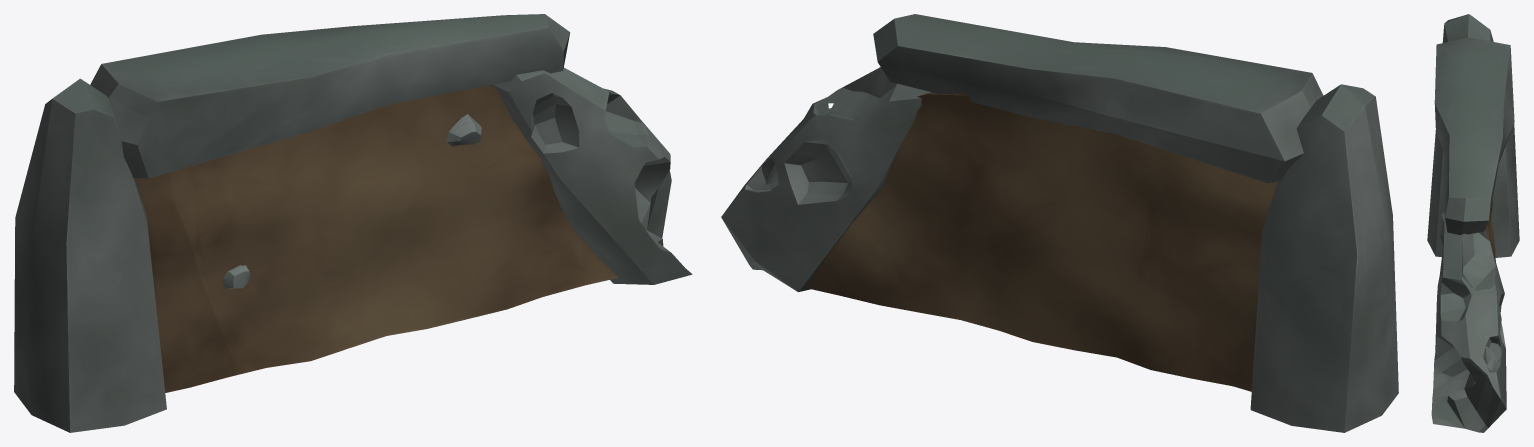
Rendered from Prehistory Destroyed Wall.fbx.
3 renders of one model, left to right at view 1: azimuth 30°, elevation 25°; view 2: azimuth 150°, elevation 25°; view 3: azimuth 270°, elevation 25°, orthographic. The views are drawn at different scales.
Visible parts, largest first — view 1: Prehistory Wall Destroyed; view 2: Prehistory Wall Destroyed; view 3: Prehistory Wall Destroyed.
Part boxes in pixels (<box>): Prehistory Wall Destroyed: <box>14,14,692,432</box>; Prehistory Wall Destroyed: <box>721,14,1398,432</box>; Prehistory Wall Destroyed: <box>1427,14,1519,432</box>.
Size of the model in its own units: 1538 by 750 by 274.
Materials: 1 (1 with a texture image).
